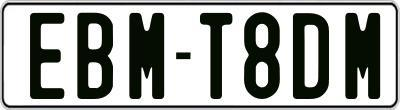8: (242, 11, 279, 98)
B: (77, 13, 114, 102)
D: (292, 11, 332, 102)
E: (28, 11, 62, 102)
M: (128, 12, 169, 103), (345, 13, 385, 104)
T: (197, 10, 232, 99)
